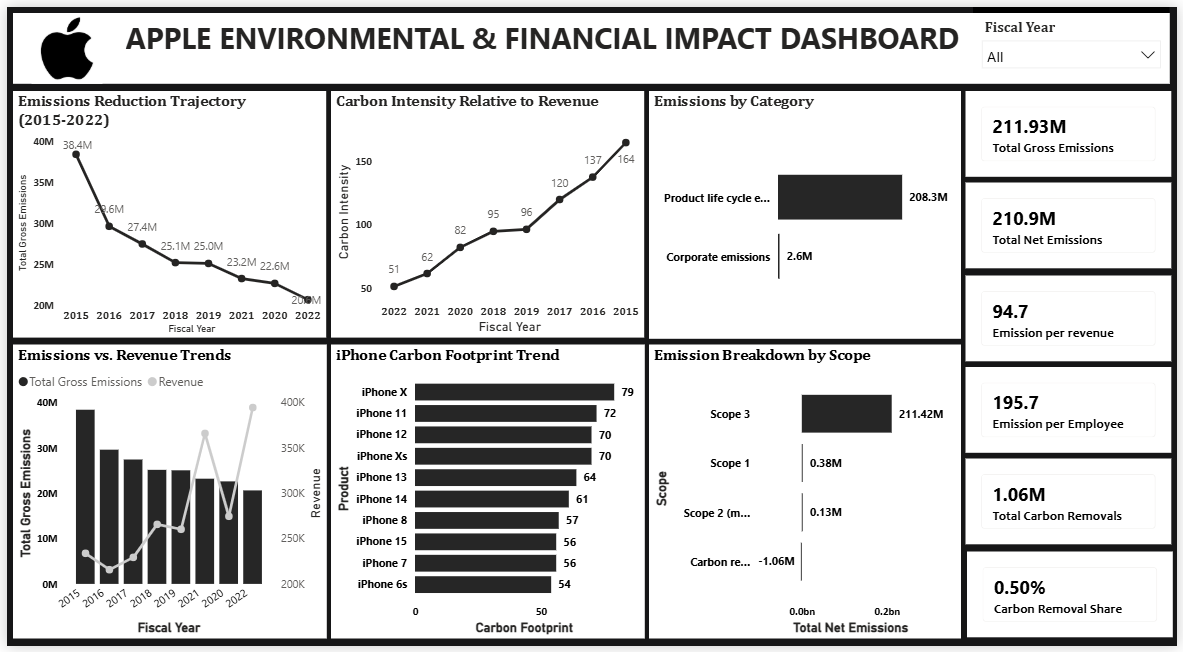

This screenshot's page, from the dashboard's own definition file:
{"tool":"powerbi","page":{"name":"Page 1","canvas":[1300,710],"ordinal":0},"visuals":[{"type":"image","box":[6.7,6.7,120,78.3],"z":1000},{"type":"textbox","box":[126.7,6.7,946.7,78.3],"z":2000},{"type":"cardVisual","fields":{"Data":["greenhouse_gas_emissions.Total Gross Emissions"]},"box":[1065,93.3,228.3,95],"z":3000},{"type":"cardVisual","fields":{"Data":["greenhouse_gas_emissions.Total Net Emissions"]},"box":[1065,195,228.3,95],"z":4000},{"type":"cardVisual","fields":{"Data":["greenhouse_gas_emissions.Emission per revenue"]},"box":[1065,298.3,228.3,95],"z":5000},{"type":"cardVisual","fields":{"Data":["greenhouse_gas_emissions.Emission per Employee"]},"box":[1065,400,228.3,95],"z":6000},{"type":"cardVisual","fields":{"Data":["greenhouse_gas_emissions.Total Carbon Removals"]},"box":[1065,501.7,228.3,95],"z":7000},{"type":"cardVisual","fields":{"Data":["greenhouse_gas_emissions.Carbon Removal Share"]},"box":[1066.7,605,228.3,95],"z":8000},{"type":"lineChart","title":"Emissions Reduction Trajectory (2015-2022)","fields":{"Category":["Dim-FiscalYear.Fiscal Year"],"Y":["greenhouse_gas_emissions.Total Gross Emissions"]},"box":[6,94,348,274],"z":9000},{"type":"lineClusteredColumnComboChart","title":"Emissions vs. Revenue Trends","fields":{"Category":["Dim-FiscalYear.Fiscal Year"],"Y":["greenhouse_gas_emissions.Total Gross Emissions"],"Y2":["Sum(normalizing_factors.Revenue)"]},"box":[6.7,375.3,348.3,326.7],"z":10000},{"type":"clusteredBarChart","title":"Emissions by Category","fields":{"Category":["greenhouse_gas_emissions.Category"],"Y":["greenhouse_gas_emissions.Total Net Emissions"]},"box":[713.3,93.3,346.7,275],"z":11000},{"type":"shape","box":[1073.3,0,218.3,78.3],"z":11500},{"type":"lineChart","title":"Carbon Intensity Relative to Revenue ","fields":{"Category":["Dim-FiscalYear.Fiscal Year"],"Y":["normalizing_factors.Carbon Intensity"]},"box":[360,94,348,274],"z":12000},{"type":"slicer","fields":{"Values":["Dim-FiscalYear.Fiscal Year"]},"box":[1073.3,6.7,218.3,78.3],"z":13000},{"type":"barChart","title":"iPhone Carbon Footprint Trend","fields":{"Category":["carbon_footprint_by_product.Product"],"Y":["Sum(carbon_footprint_by_product.Carbon Footprint)"]},"box":[360,375,348.3,326.7],"z":14000},{"type":"barChart","title":"Emission Breakdown by Scope","fields":{"Y":["greenhouse_gas_emissions.Total Net Emissions"],"Category":["greenhouse_gas_emissions.Scope"]},"box":[713.3,375,346.7,326.7],"z":15000}]}

Visuals, with their boxes in screenshot pixels (x1, y1, x2, y2), scaled from the page's 1300x710 canvas onto the 1183x652 screenshot:
image: rect(6, 6, 115, 78)
textbox: rect(115, 6, 977, 78)
cardVisual - greenhouse_gas_emissions.Total Gross Emissions: rect(969, 86, 1177, 173)
cardVisual - greenhouse_gas_emissions.Total Net Emissions: rect(969, 179, 1177, 266)
cardVisual - greenhouse_gas_emissions.Emission per revenue: rect(969, 274, 1177, 361)
cardVisual - greenhouse_gas_emissions.Emission per Employee: rect(969, 367, 1177, 455)
cardVisual - greenhouse_gas_emissions.Total Carbon Removals: rect(969, 461, 1177, 548)
cardVisual - greenhouse_gas_emissions.Carbon Removal Share: rect(971, 556, 1178, 643)
"Emissions Reduction Trajectory (2015-2022)" lineChart: rect(5, 86, 322, 338)
"Emissions vs. Revenue Trends" lineClusteredColumnComboChart: rect(6, 345, 323, 645)
"Emissions by Category" clusteredBarChart: rect(649, 86, 965, 338)
shape: rect(977, 0, 1175, 72)
"Carbon Intensity Relative to Revenue " lineChart: rect(328, 86, 644, 338)
slicer - Dim-FiscalYear.Fiscal Year: rect(977, 6, 1175, 78)
"iPhone Carbon Footprint Trend" barChart: rect(328, 344, 645, 644)
"Emission Breakdown by Scope" barChart: rect(649, 344, 965, 644)
